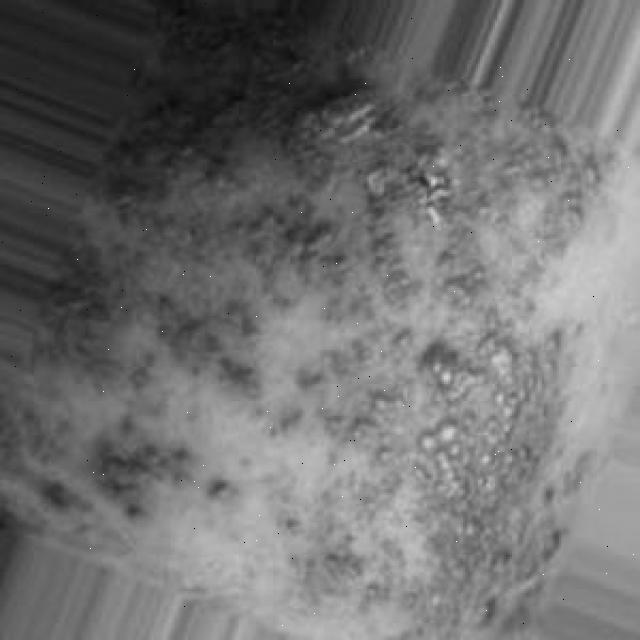Shingles: (0, 23, 623, 614)
